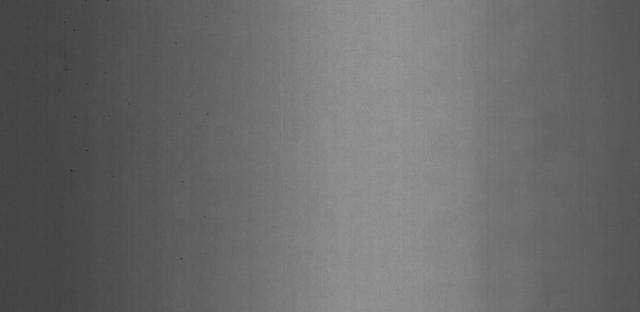inclusion: (59, 158, 89, 182)
